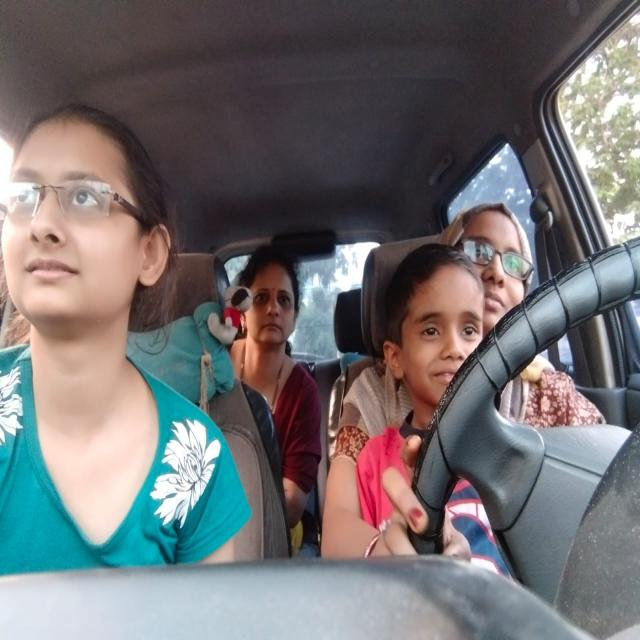child: (384, 252, 489, 395)
person: (3, 96, 174, 330), (448, 203, 529, 317), (240, 255, 304, 351)
